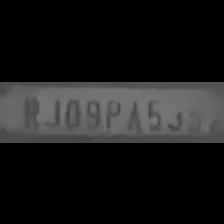0: (62, 94, 82, 128)
5: (142, 96, 164, 132)
9: (82, 94, 102, 128)
A: (122, 94, 142, 132)
J: (44, 92, 62, 128)
P: (100, 94, 122, 130)
R: (18, 92, 42, 128)
